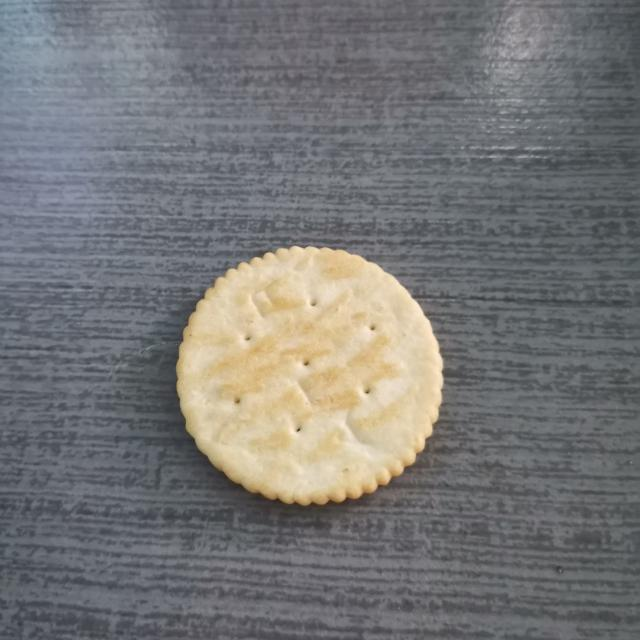Intact: (164, 237, 459, 520)
